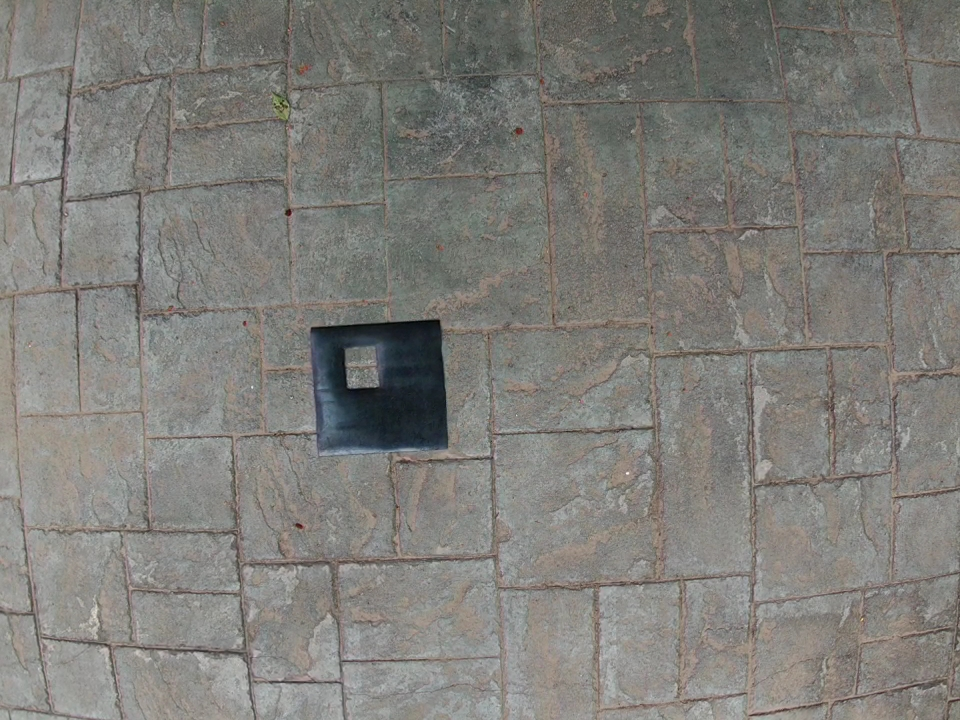qrcode: (310, 320, 447, 450)
